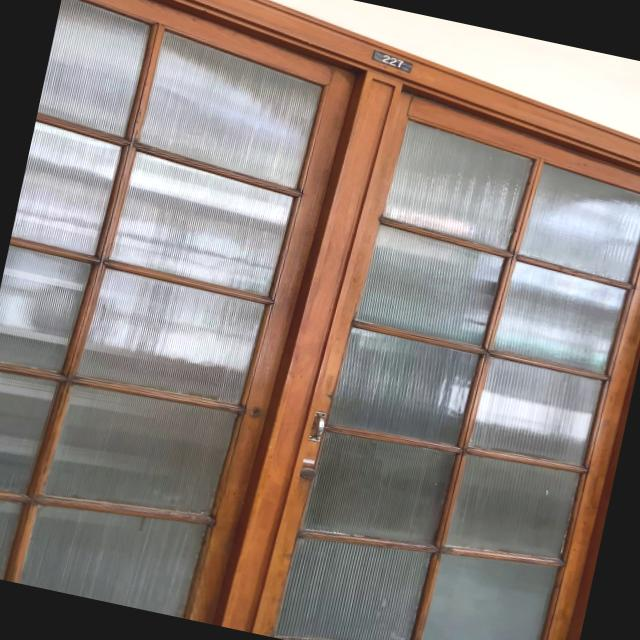room227: (367, 47, 414, 74)
